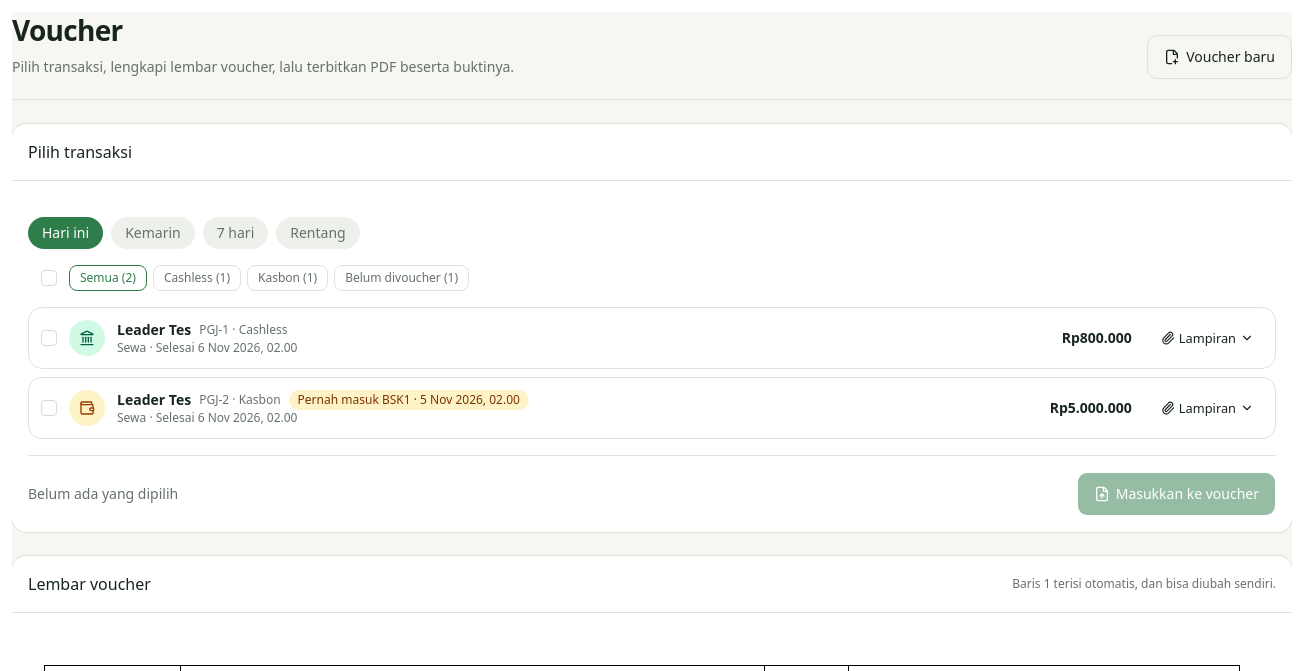
it: VoucherPage transaction picker › loads attachments only when a row opens
The image size is (1304, 671).
What coordinates should you click on to do the following:
click the button "Lampiran" next to "Rp800.000"
I would click on:
 (1207, 338)
Its box is [1148,316,1267,360].
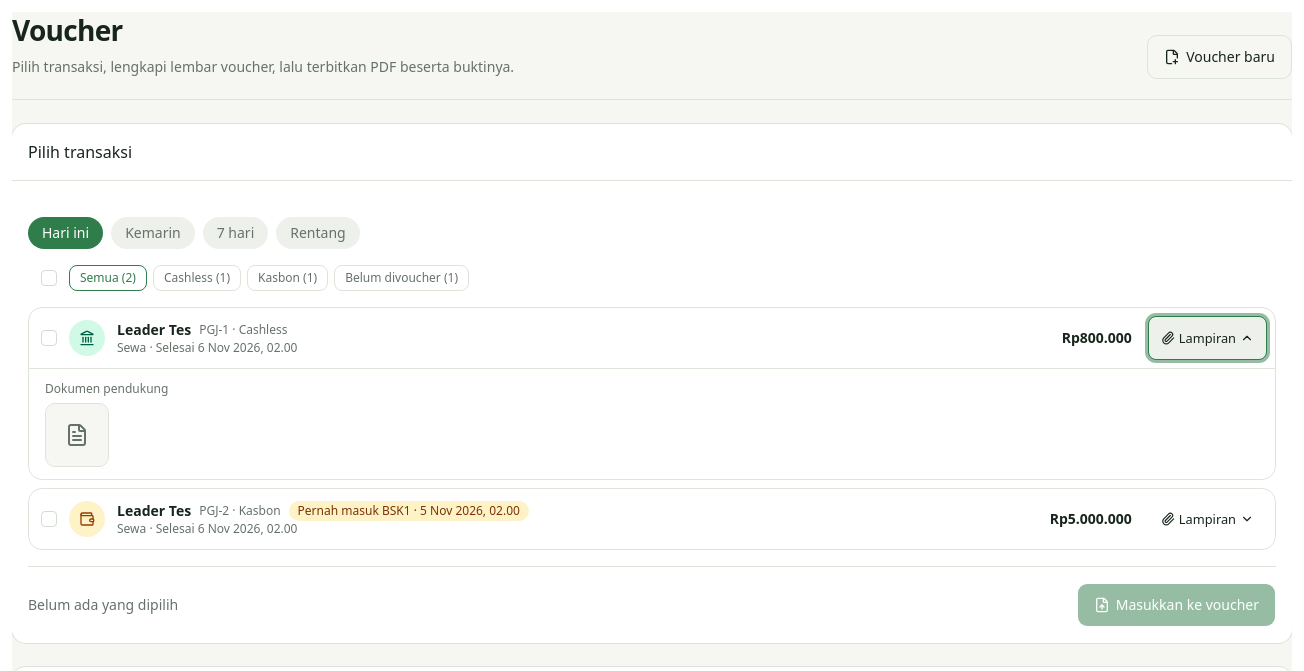
Expected: the button named "Lihat Dokumen pendukung nota.pdf" is shown, [45,403,109,467]
